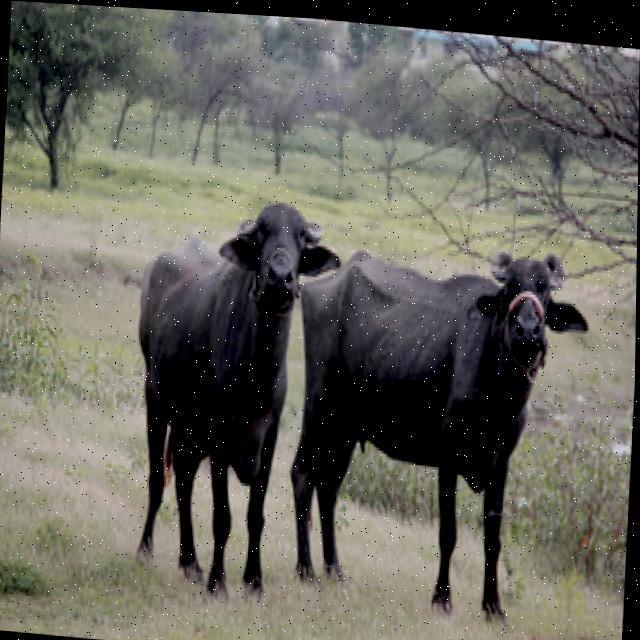Buffalo: (129, 185, 342, 603)
